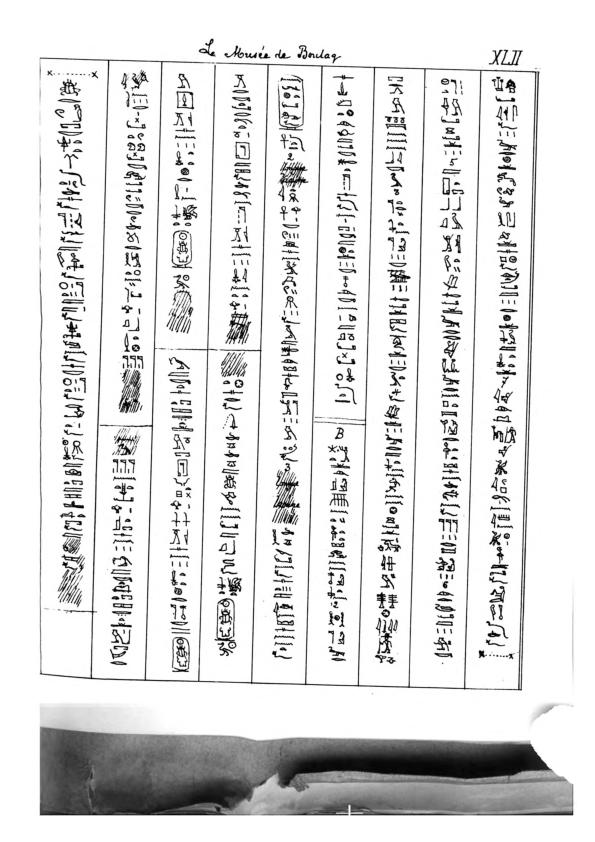circle: (274, 72, 306, 133), (212, 598, 240, 642), (170, 229, 194, 271), (170, 636, 191, 674)
